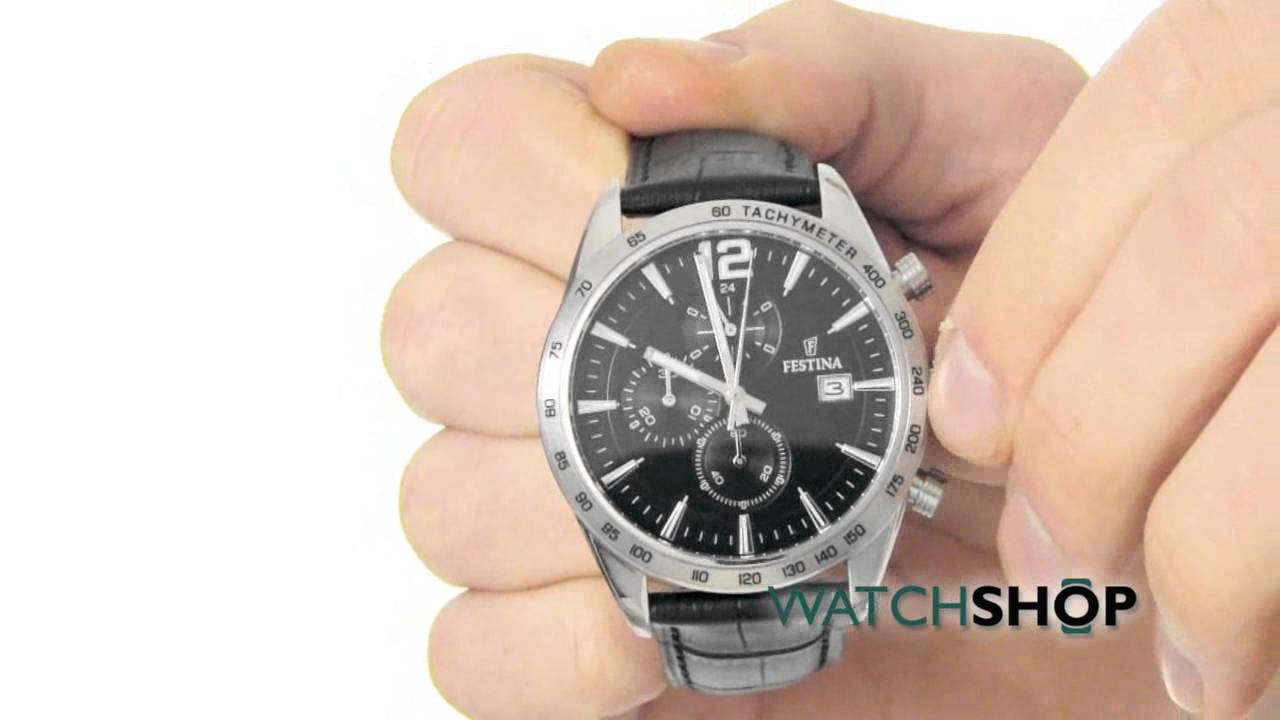clock: (573, 229, 897, 559)
